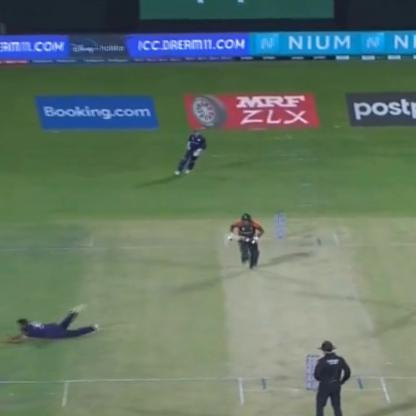pitch: (215, 226, 389, 416)
